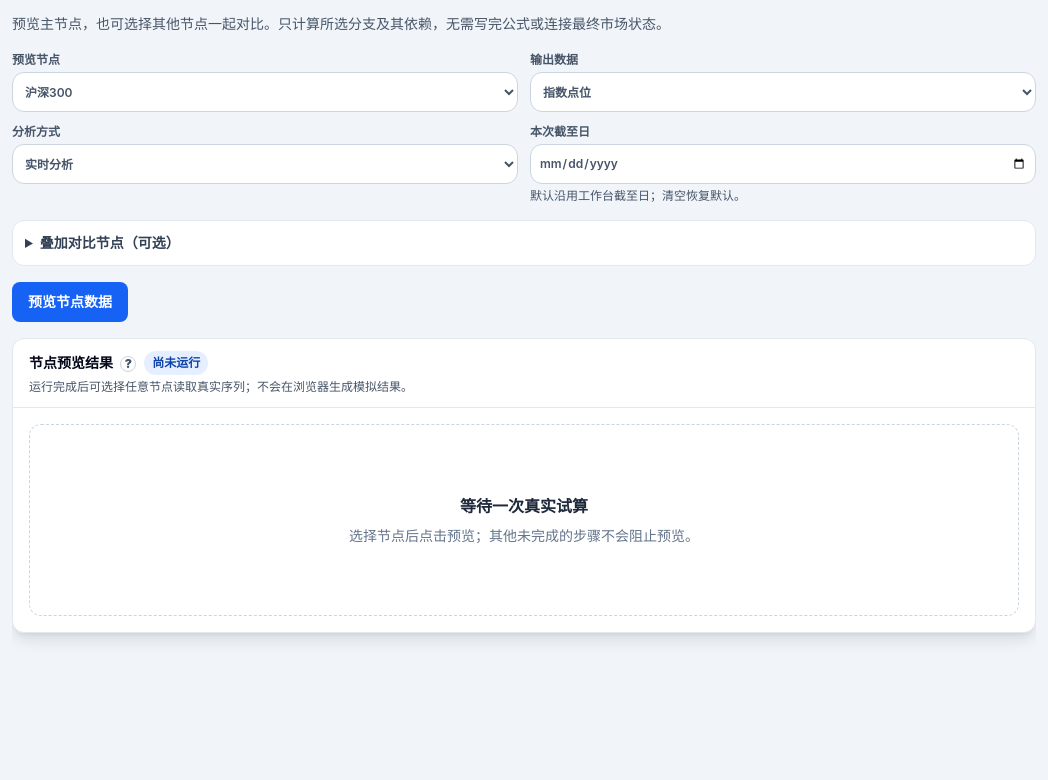
Test case: 取消预览会取消后台任务，停止等待
Step 1. Click the button "预览节点数据" → (70, 302), box x1=12 y1=282 x2=128 y2=322
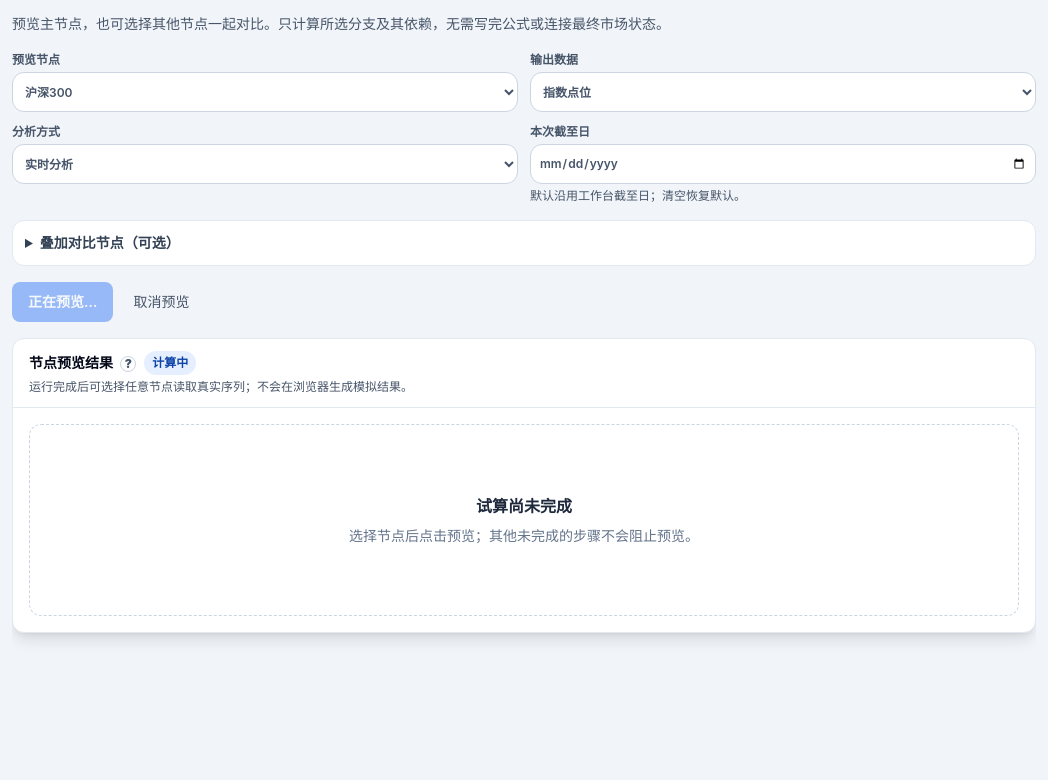
Step 2. Click the button "取消预览" → (161, 302), box x1=125 y1=282 x2=197 y2=322
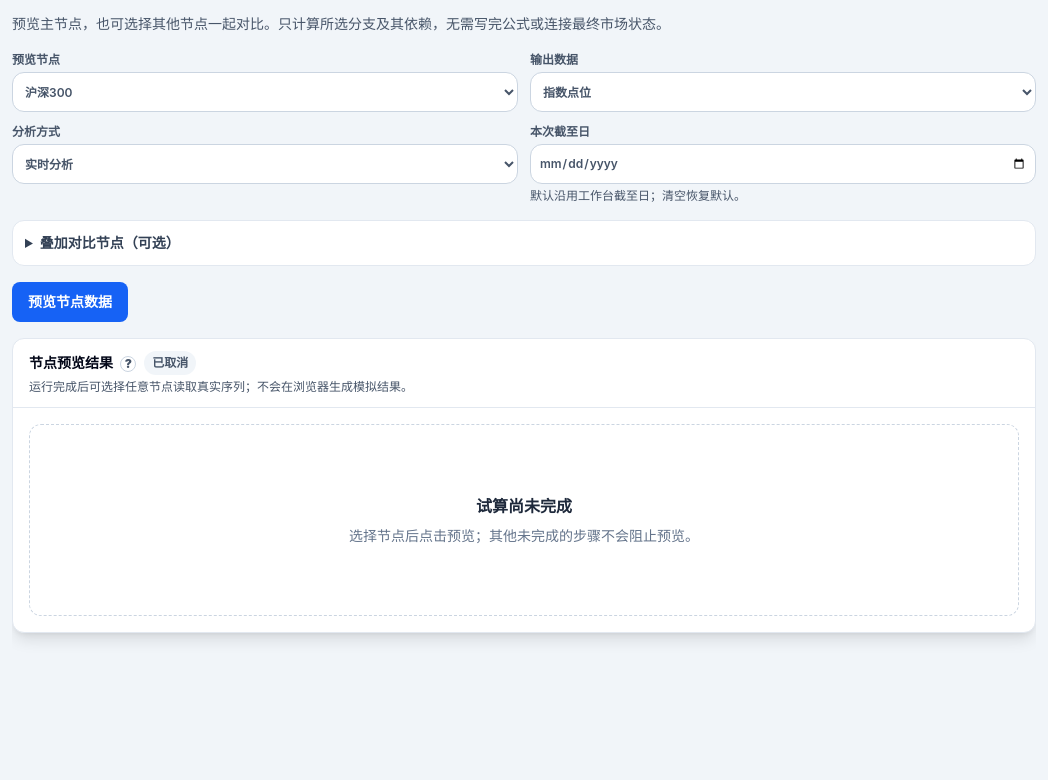
Result: the button "预览节点数据" is enabled at x1=12 y1=282 x2=128 y2=322
